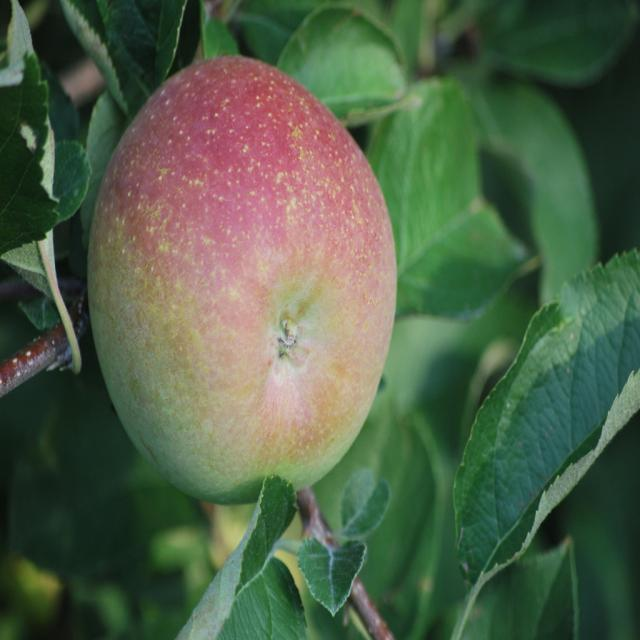Healty Apple: (88, 49, 395, 519)
